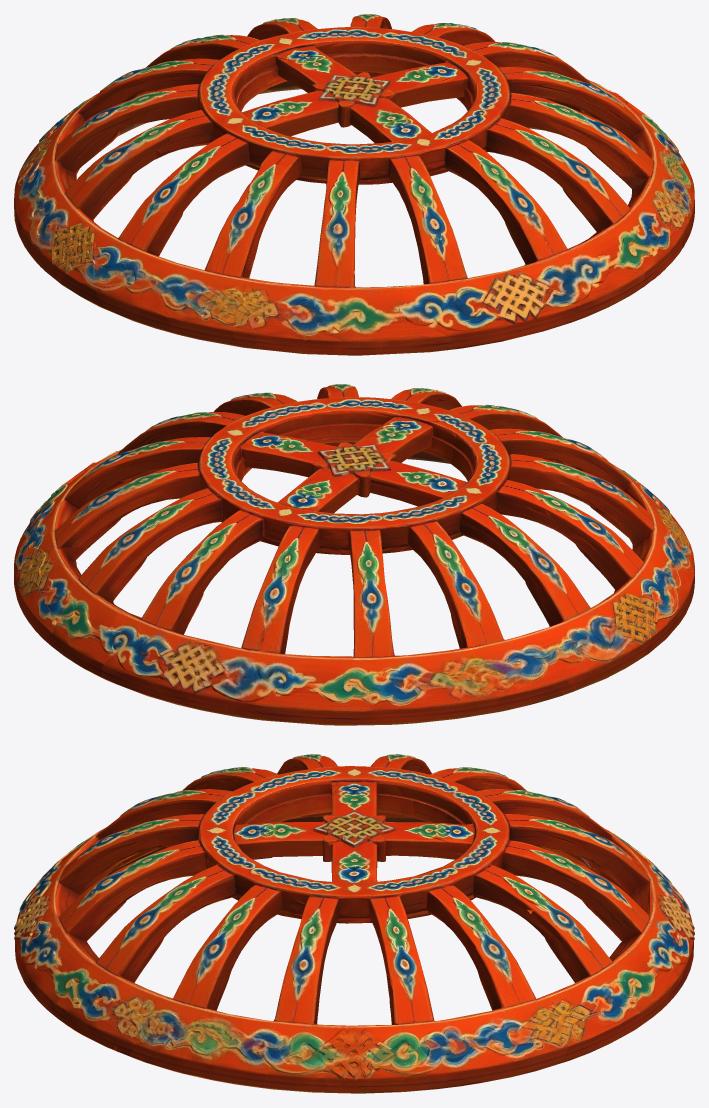
The model's file is toono.glb.
The picture shows the model from 3 angles, top to bottom: view 1: azimuth 30°, elevation 25°; view 2: azimuth 150°, elevation 25°; view 3: azimuth 270°, elevation 25°; orthographic projection.
Size of the model in its own units: 1.9 by 0.3859 by 1.9.
1 material, 1 textured.
